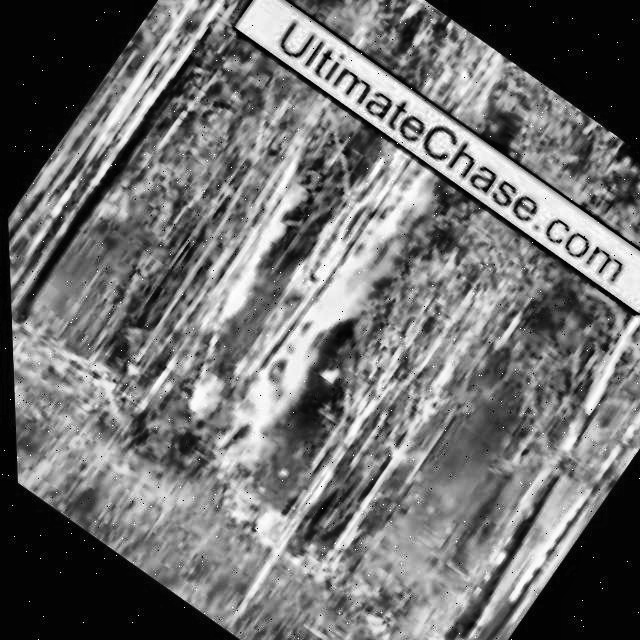Fire: (112, 91, 474, 486), (411, 34, 520, 140), (197, 461, 307, 556)
